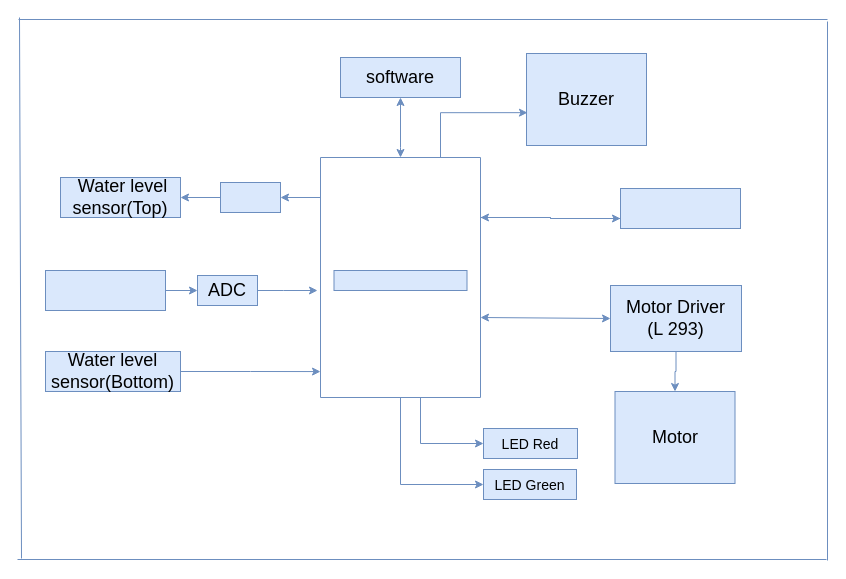
Some shapes in this 846 by 579 pixel diagram are drawn without their labels. The shapes that lost their labels are listed below. From the top down, each one's centre as x and y in pixels, then its label:
the point at 250,197: DAC
the point at 680,208: Memory
the point at 105,290: Water quality sensor
the point at 400,280: Micro controller
